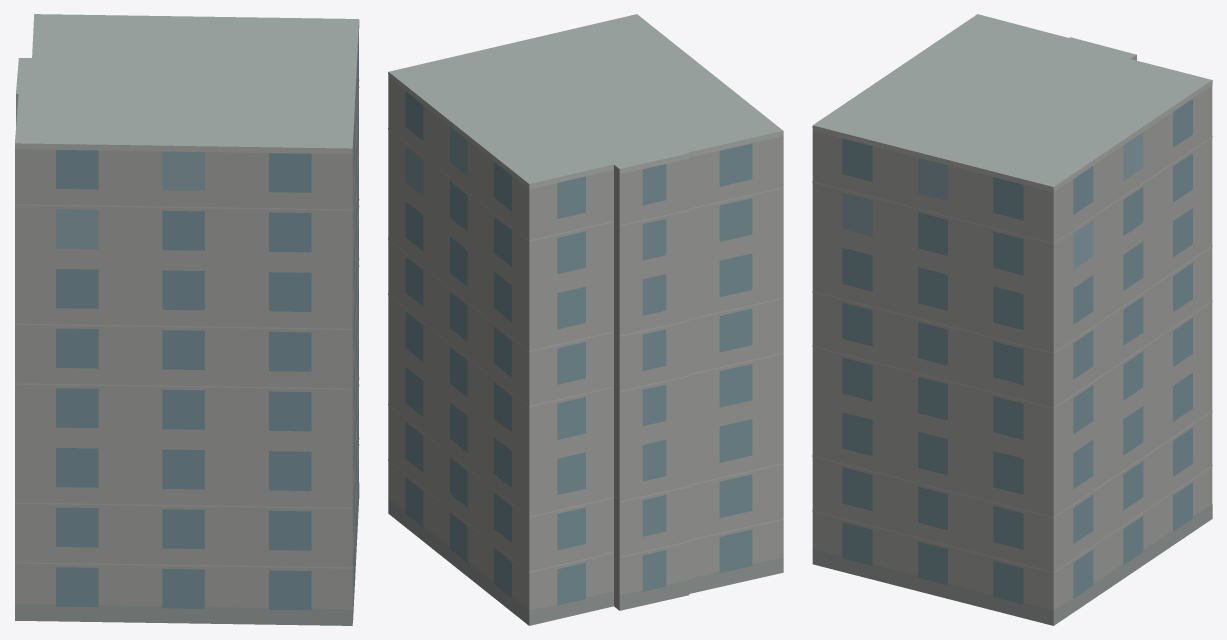
Rendered from survey-upis-32747759.glb.
3 renders of one model, left to right at view 1: azimuth 30°, elevation 25°; view 2: azimuth 150°, elevation 25°; view 3: azimuth 270°, elevation 25°, orthographic. The views are drawn at different scales.
Visible parts, largest first — view 1: survey-upis-32747759.tmp; view 2: survey-upis-32747759.tmp; view 3: survey-upis-32747759.tmp.
Part boxes in pixels (x1,y1,x2,y2): survey-upis-32747759.tmp: [15, 14, 359, 625]; survey-upis-32747759.tmp: [388, 14, 783, 625]; survey-upis-32747759.tmp: [812, 14, 1212, 625].
Bounding box in the file's own units: 16.89 × 19.95 × 16.5.
